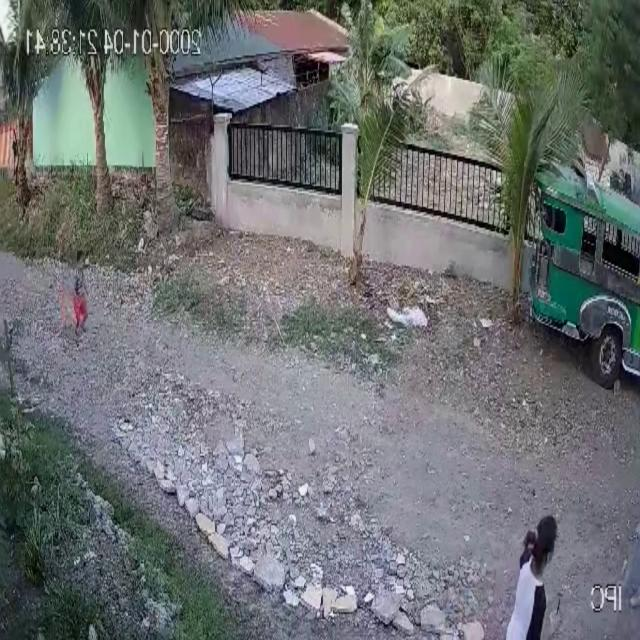running: (66, 245, 92, 354)
walking: (495, 511, 560, 640), (10, 126, 20, 190)
